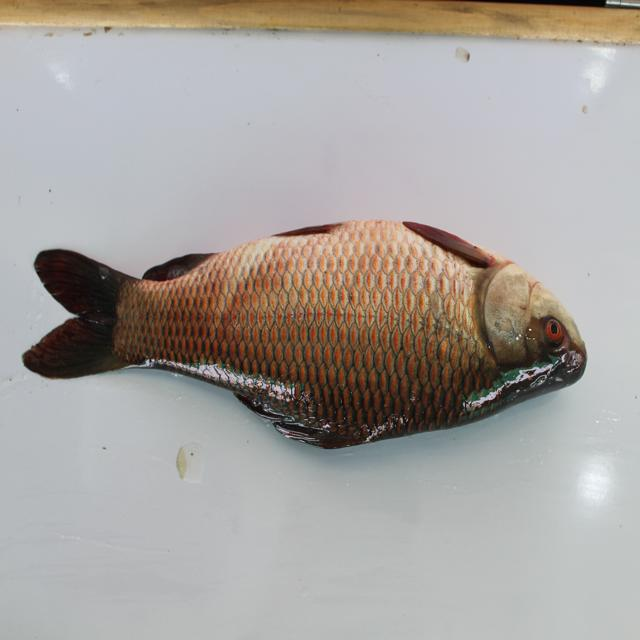Rohu: (23, 221, 601, 447)
